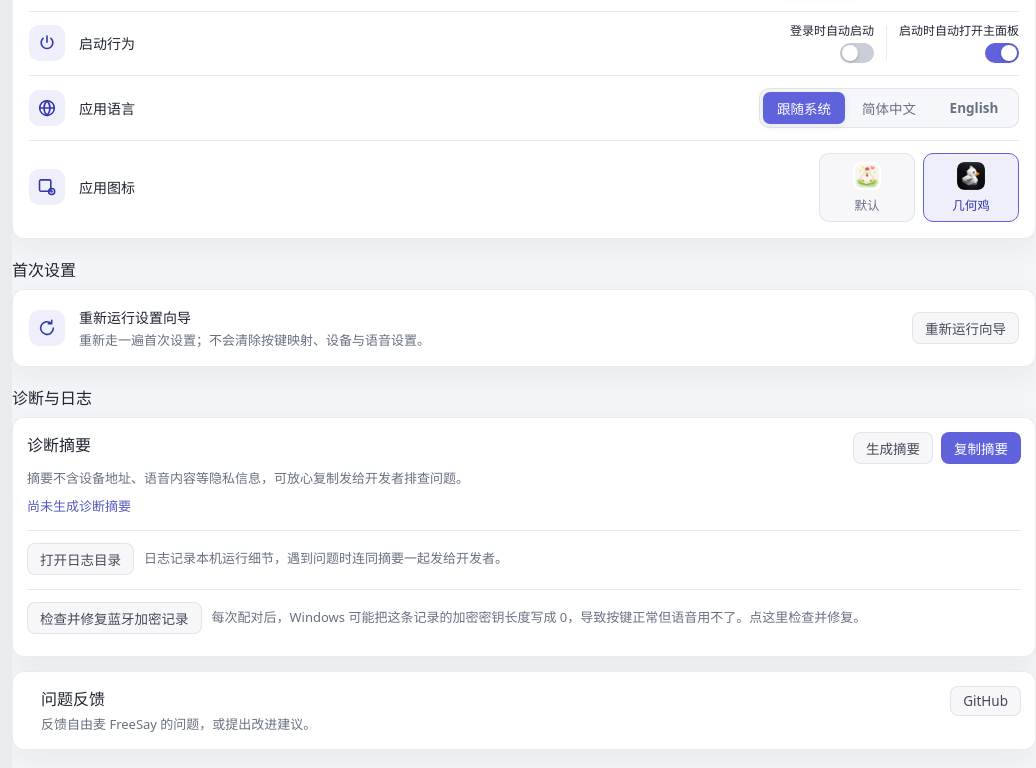
Test case: settings page › 诊断与日志：浏览器预览下打开日志目录给出明确不可用提示
The width and height of the screenshot is (1036, 768).
What coordinates should you click on to do the following:
click the button "打开日志目录"
I would click on:
 (80, 559)
Its box is [27,543,134,575].
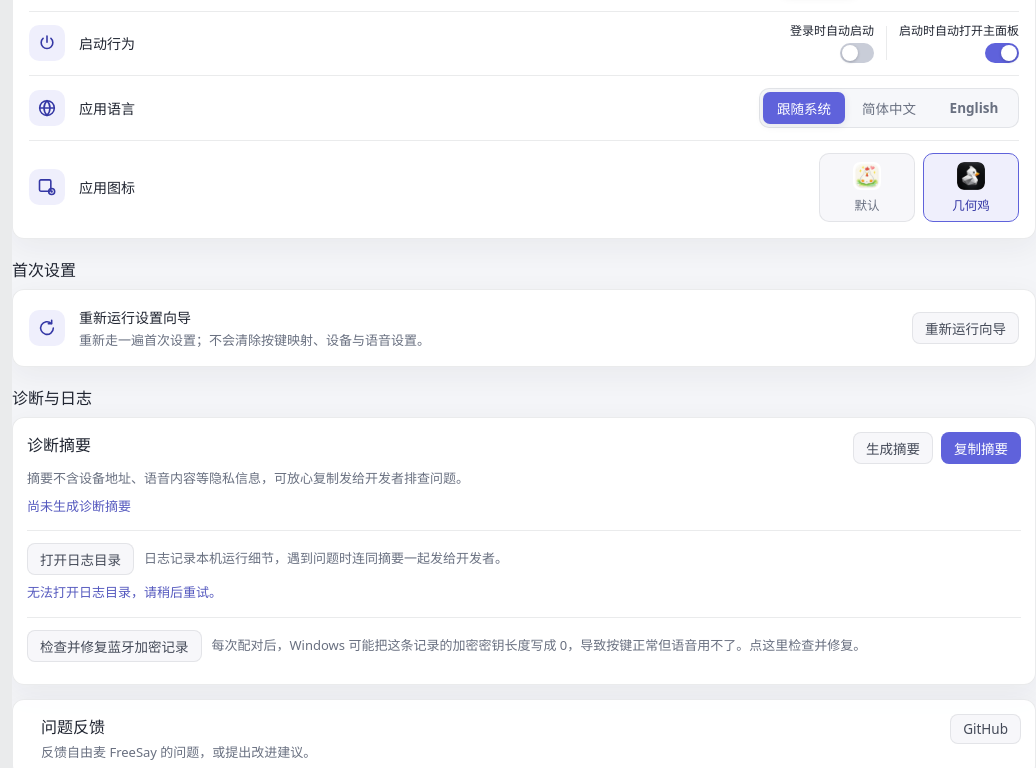
Check: the text "无法打开日志目录，请稍后重试。" is shown, box [27,583,222,601]
